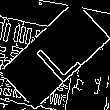L_NW: (27, 26, 83, 84)
